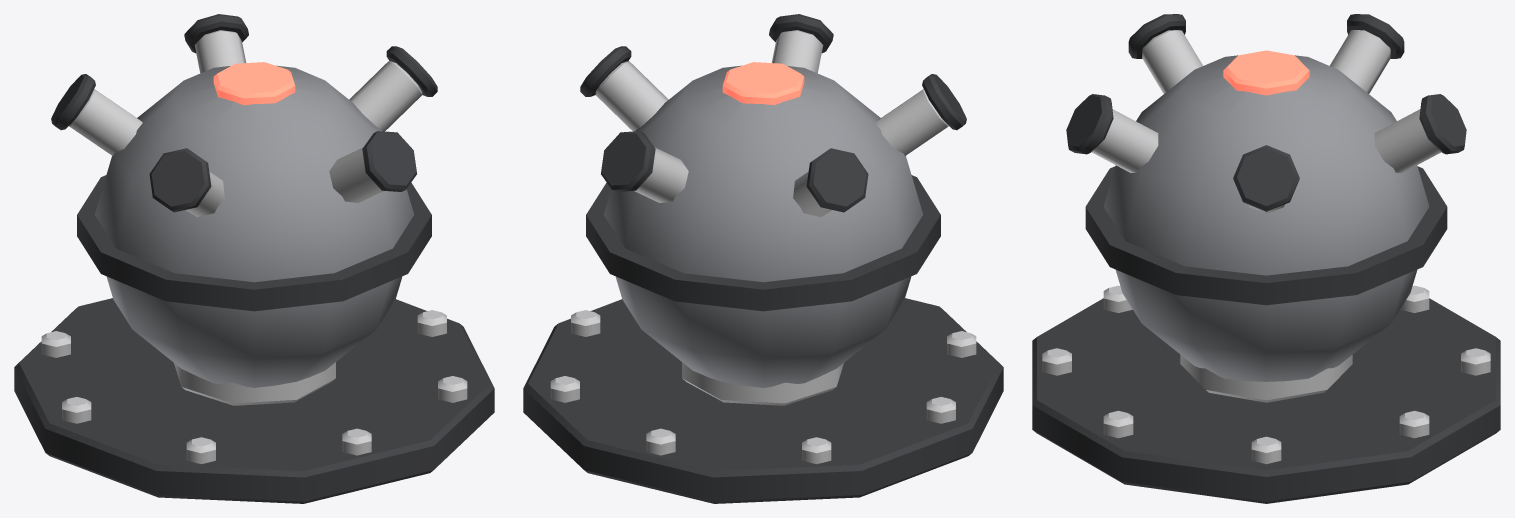
File: R4D_ExplosiveTrap.fbx
The picture shows the model from 3 angles, left to right: view 1: azimuth 30°, elevation 25°; view 2: azimuth 150°, elevation 25°; view 3: azimuth 270°, elevation 25°; orthographic projection.
Visible parts, largest first — view 1: R4D_ExplosiveTrap_Body, R4D_ExplosiveTrap_Lamp; view 2: R4D_ExplosiveTrap_Body, R4D_ExplosiveTrap_Lamp; view 3: R4D_ExplosiveTrap_Body, R4D_ExplosiveTrap_Lamp.
Boxes of the visible parts, x1,y1,x2,y2 form: R4D_ExplosiveTrap_Body: (14, 14, 494, 503); R4D_ExplosiveTrap_Lamp: (213, 62, 295, 105); R4D_ExplosiveTrap_Body: (523, 14, 1003, 503); R4D_ExplosiveTrap_Lamp: (722, 62, 804, 105); R4D_ExplosiveTrap_Body: (1032, 14, 1500, 503); R4D_ExplosiveTrap_Lamp: (1223, 50, 1309, 95).
Size of the model in its own units: 0.4 by 0.3 by 0.3804.
